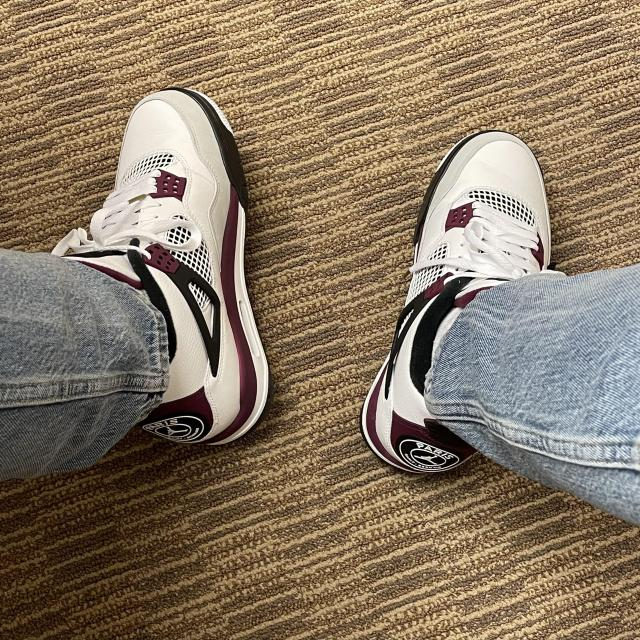shoe: (64, 85, 275, 450), (359, 126, 558, 478)
